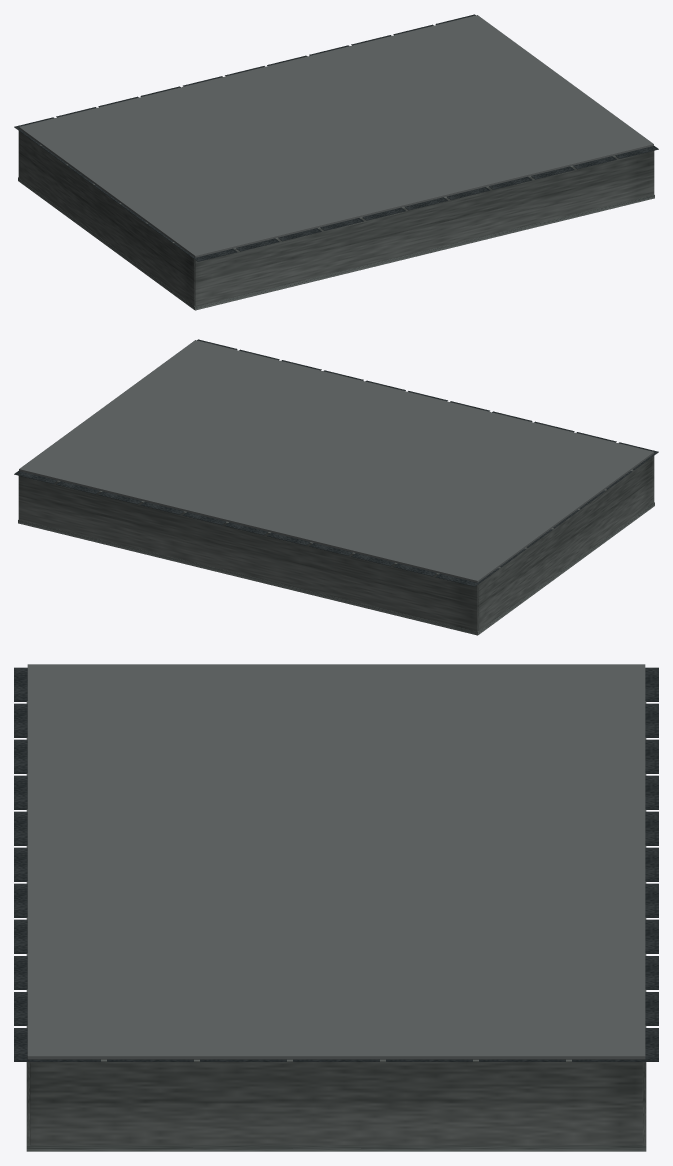
The model's file is arena.glb.
3 renders of one model, top to bottom at view 1: azimuth 30°, elevation 25°; view 2: azimuth 150°, elevation 25°; view 3: azimuth 270°, elevation 25°, orthographic. The views are drawn at different scales.
Visible parts, largest first — view 1: BATCH_15_WARM_BLACK_TRIM, BATCH_02_OLD_CONCRETE_PANEL, BATCH_03_POWDERCOATED_GUNMETAL, BATCH_01_WORN_CONCRETE_PBR; view 2: BATCH_15_WARM_BLACK_TRIM, BATCH_02_OLD_CONCRETE_PANEL, BATCH_03_POWDERCOATED_GUNMETAL, BATCH_01_WORN_CONCRETE_PBR; view 3: BATCH_15_WARM_BLACK_TRIM, BATCH_02_OLD_CONCRETE_PANEL, BATCH_03_POWDERCOATED_GUNMETAL, BATCH_01_WORN_CONCRETE_PBR.
Boxes of the visible parts, <box> form: BATCH_15_WARM_BLACK_TRIM: <box>19,15,653,257</box>; BATCH_02_OLD_CONCRETE_PANEL: <box>18,131,654,306</box>; BATCH_03_POWDERCOATED_GUNMETAL: <box>14,14,658,261</box>; BATCH_01_WORN_CONCRETE_PBR: <box>18,177,654,310</box>; BATCH_15_WARM_BLACK_TRIM: <box>19,340,653,582</box>; BATCH_02_OLD_CONCRETE_PANEL: <box>18,456,654,631</box>; BATCH_03_POWDERCOATED_GUNMETAL: <box>14,339,658,586</box>; BATCH_01_WORN_CONCRETE_PBR: <box>18,502,654,635</box>; BATCH_15_WARM_BLACK_TRIM: <box>27,664,645,1059</box>; BATCH_02_OLD_CONCRETE_PANEL: <box>26,701,646,1145</box>; BATCH_03_POWDERCOATED_GUNMETAL: <box>14,667,658,1061</box>; BATCH_01_WORN_CONCRETE_PBR: <box>26,1145,646,1151</box>.
Size of the model in its own units: 120 by 13.55 by 83.25.
Materials: 17 (10 with a texture image).
